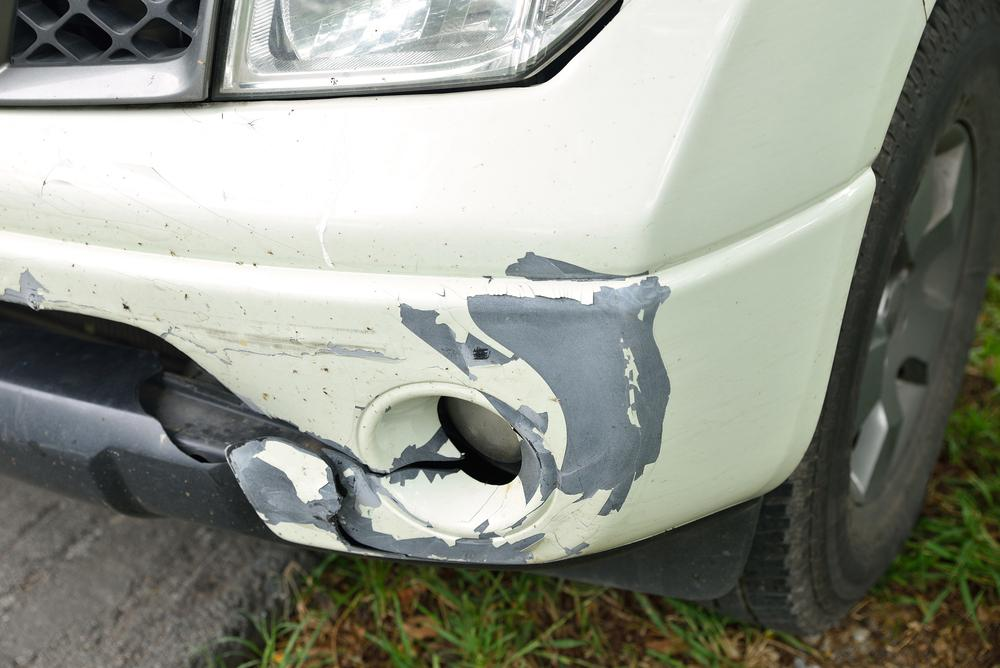crack: (323, 449, 397, 555), (336, 449, 460, 476)
scratch: (344, 255, 671, 563), (0, 267, 403, 367), (223, 443, 336, 527)
